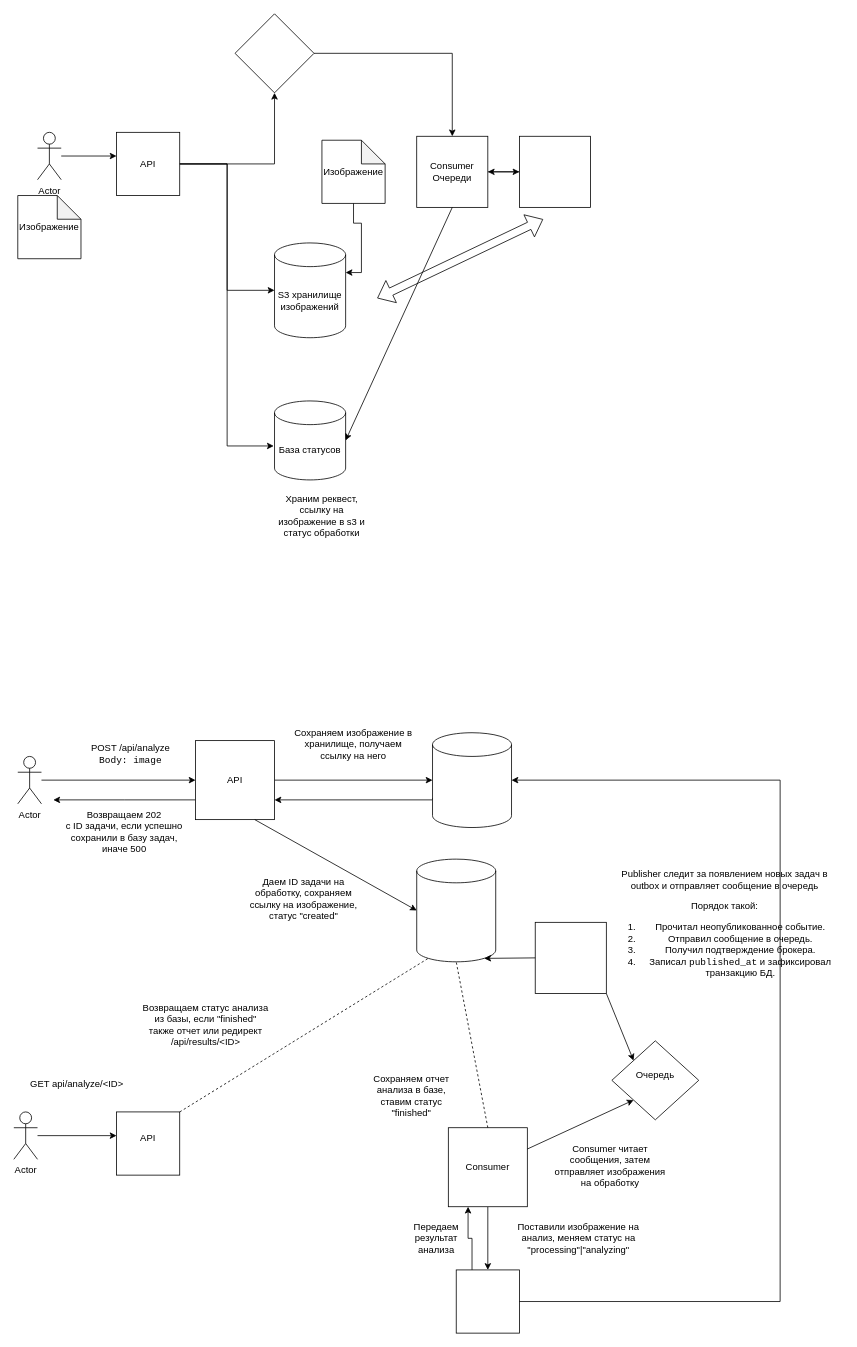
Image size: 857x1347. Some labels were removed from this diagram. The centre of each missing label's shape, as x and y in pixels:
"Object Storage" belongs at pixel 472 780.
"Publisher" belongs at pixel 570 957.
"Анализатор изображений" belongs at pixel 487 1301.
"База задач на обработку" belongs at pixel 456 910.
"Очередь на обработку" belongs at pixel 274 53.
"Сервис анализа изображений" belongs at pixel 555 171.
